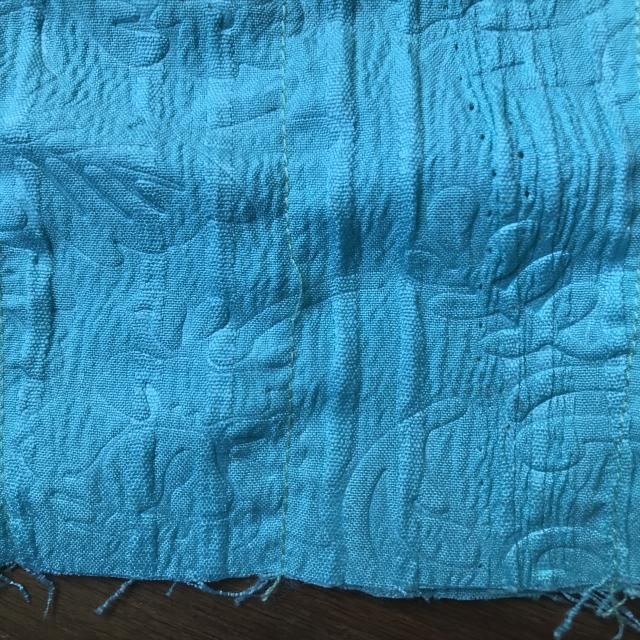good: (272, 111, 298, 202)
skip: (286, 246, 311, 337)
